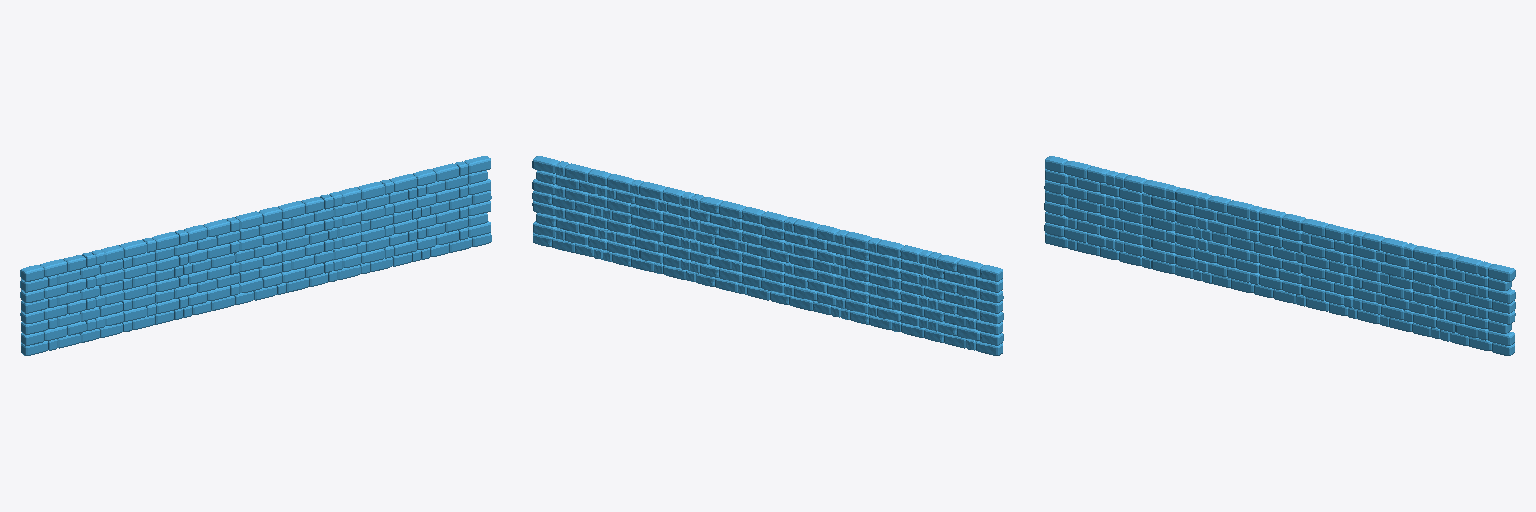
URDF robot description (urdf_wall):
<?xml version="1.0" ?>
<robot name="urdf_wall">
 <link name="world"/>
  <joint name="fixed" type="fixed">
    <parent link="world"/>
    <child link="baseLink"/>
    <origin xyz="0 0 0"/>
  </joint>

  <link name="baseLink">
    <inertial>
      <origin rpy="1.57 0 0" xyz="0 0 0"/>
       <mass value="0.1"/>
       <inertia ixx="0.1" ixy="0" ixz="0" iyy="0.1" iyz="0" izz="0.1"/>
    </inertial>
    <visual>
        <origin xyz='0 0 0' rpy='1.57 0 0'/>
    <geometry>
     <mesh filename="walls.obj"  scale="0.01 0.01 0.01" />
    </geometry>
    </visual>
    <collision>
        <origin xyz='0 0 0' rpy='1.57 0 0'/>
    <geometry>
     <mesh filename="walls.obj"  scale="0.01 0.01 0.01" />
    </geometry>
    </collision>

  </link>

</robot>

--- Facts derived from the render (not from the file) ---
3 views of the same robot in one strip: view 1: azimuth 30°, elevation 25°; view 2: azimuth 150°, elevation 25°; view 3: azimuth 330°, elevation 25° (orthographic).
Robot: urdf_wall — 2 links, 1 joints (1 fixed); root link world; default pose: every joint at zero.
Visible links, largest first — view 1: baseLink; view 2: baseLink; view 3: baseLink.
Boxes of the visible links, x1,y1,x2,y2 form: baseLink: [20, 156, 491, 355]; baseLink: [532, 156, 1003, 355]; baseLink: [1044, 156, 1515, 355].
Size in the robot's own frame: 14.07 by 0.3218 by 2.46 metres.
1 mesh visuals loaded from 1 distinct referenced files (1 OBJ).